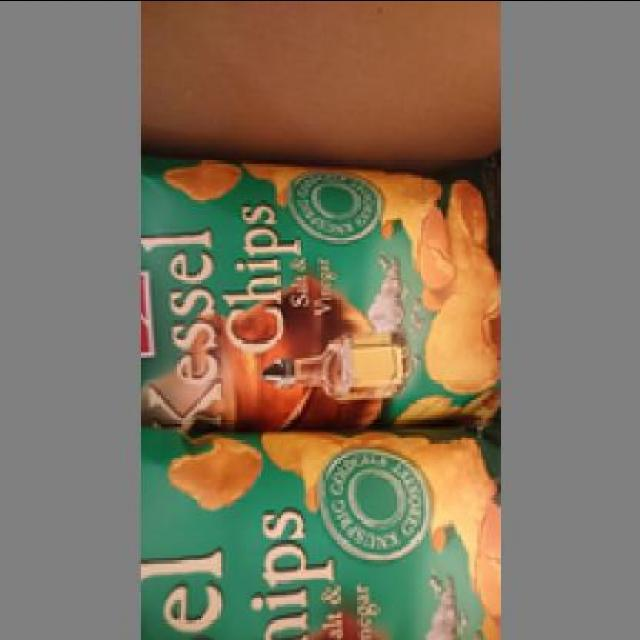Chips: (140, 163, 494, 434), (137, 431, 494, 638)
